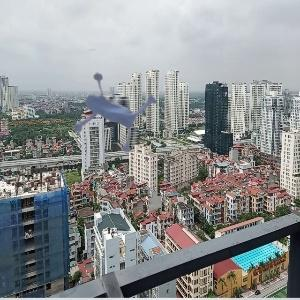drone: (50, 44, 179, 173)
